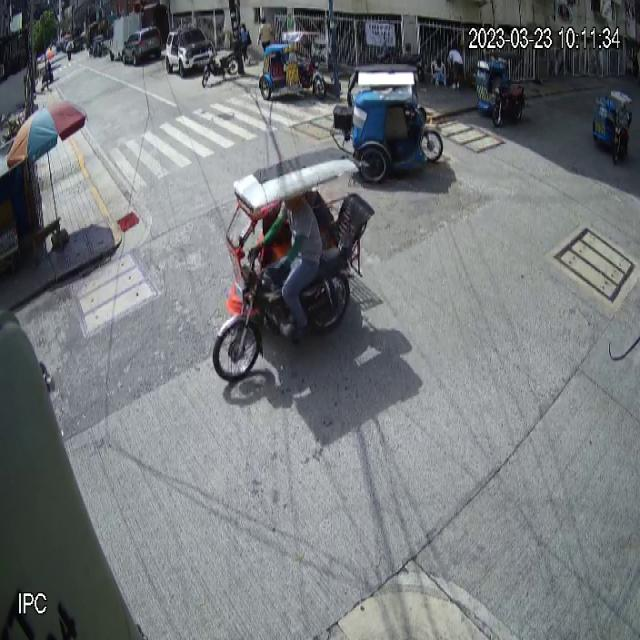Tricycle: (211, 150, 374, 386), (331, 64, 444, 185), (258, 29, 328, 102), (475, 59, 529, 127), (592, 89, 633, 165)
